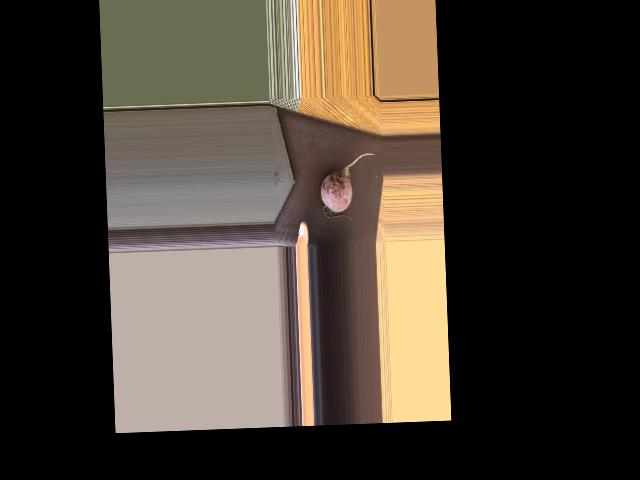beet: (319, 152, 376, 223)
